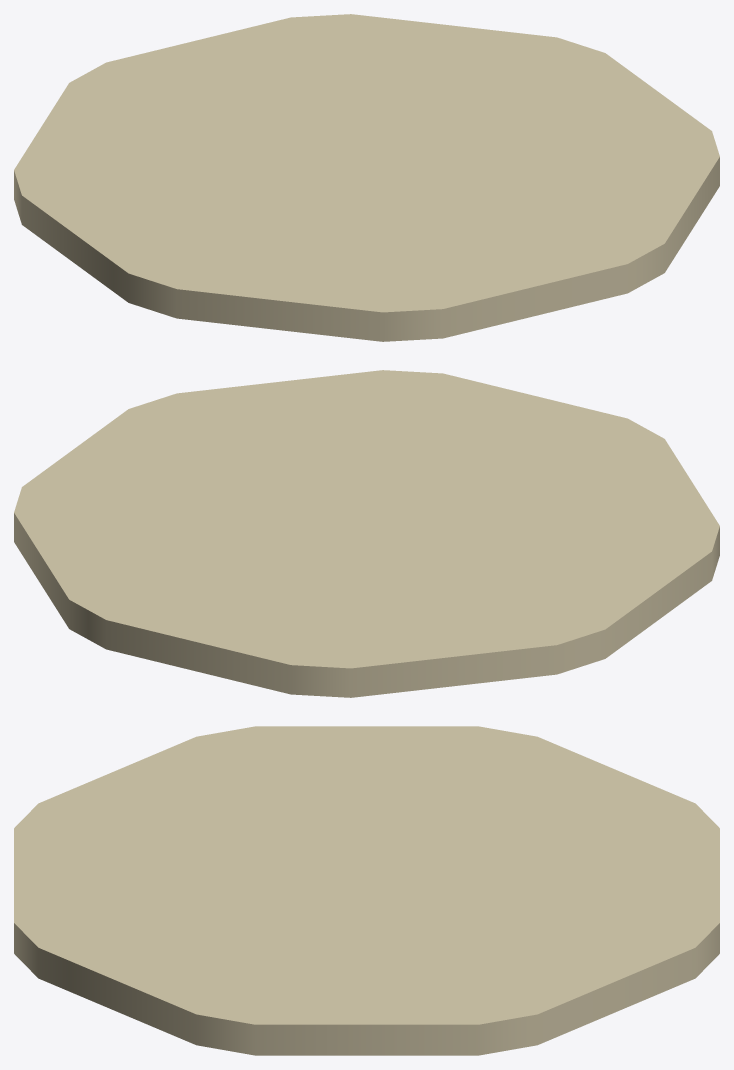
3 views of the same model, one above another, from view 1: azimuth 30°, elevation 25°; view 2: azimuth 150°, elevation 25°; view 3: azimuth 270°, elevation 25° (orthographic). The views are drawn at different scales.
Parts seen in each view (by area): view 1: pd3_base; view 2: pd3_base; view 3: pd3_base.
Boxes of the visible parts, x1,y1,x2,y2 form: pd3_base: (14, 14, 719, 341); pd3_base: (14, 370, 719, 697); pd3_base: (14, 726, 719, 1055).
Size of the model in its own units: 1.87 by 0.09 by 1.87.
